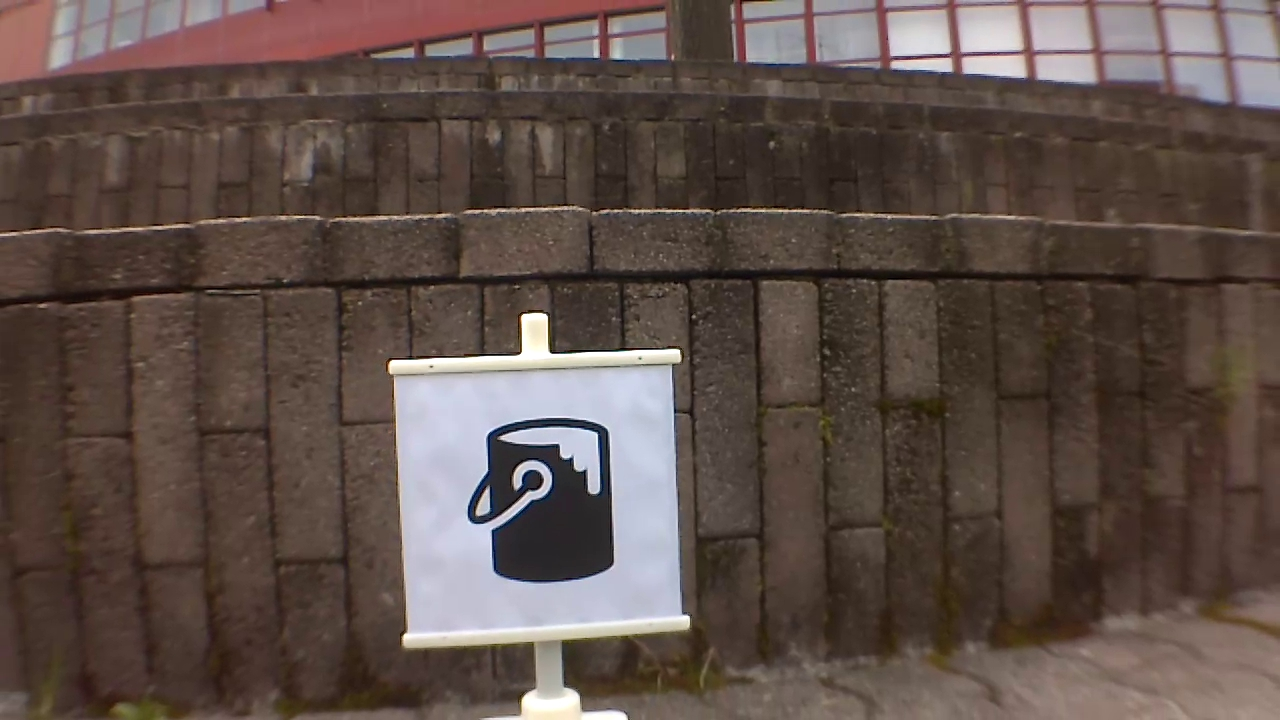bucket: (462, 416, 613, 589)
